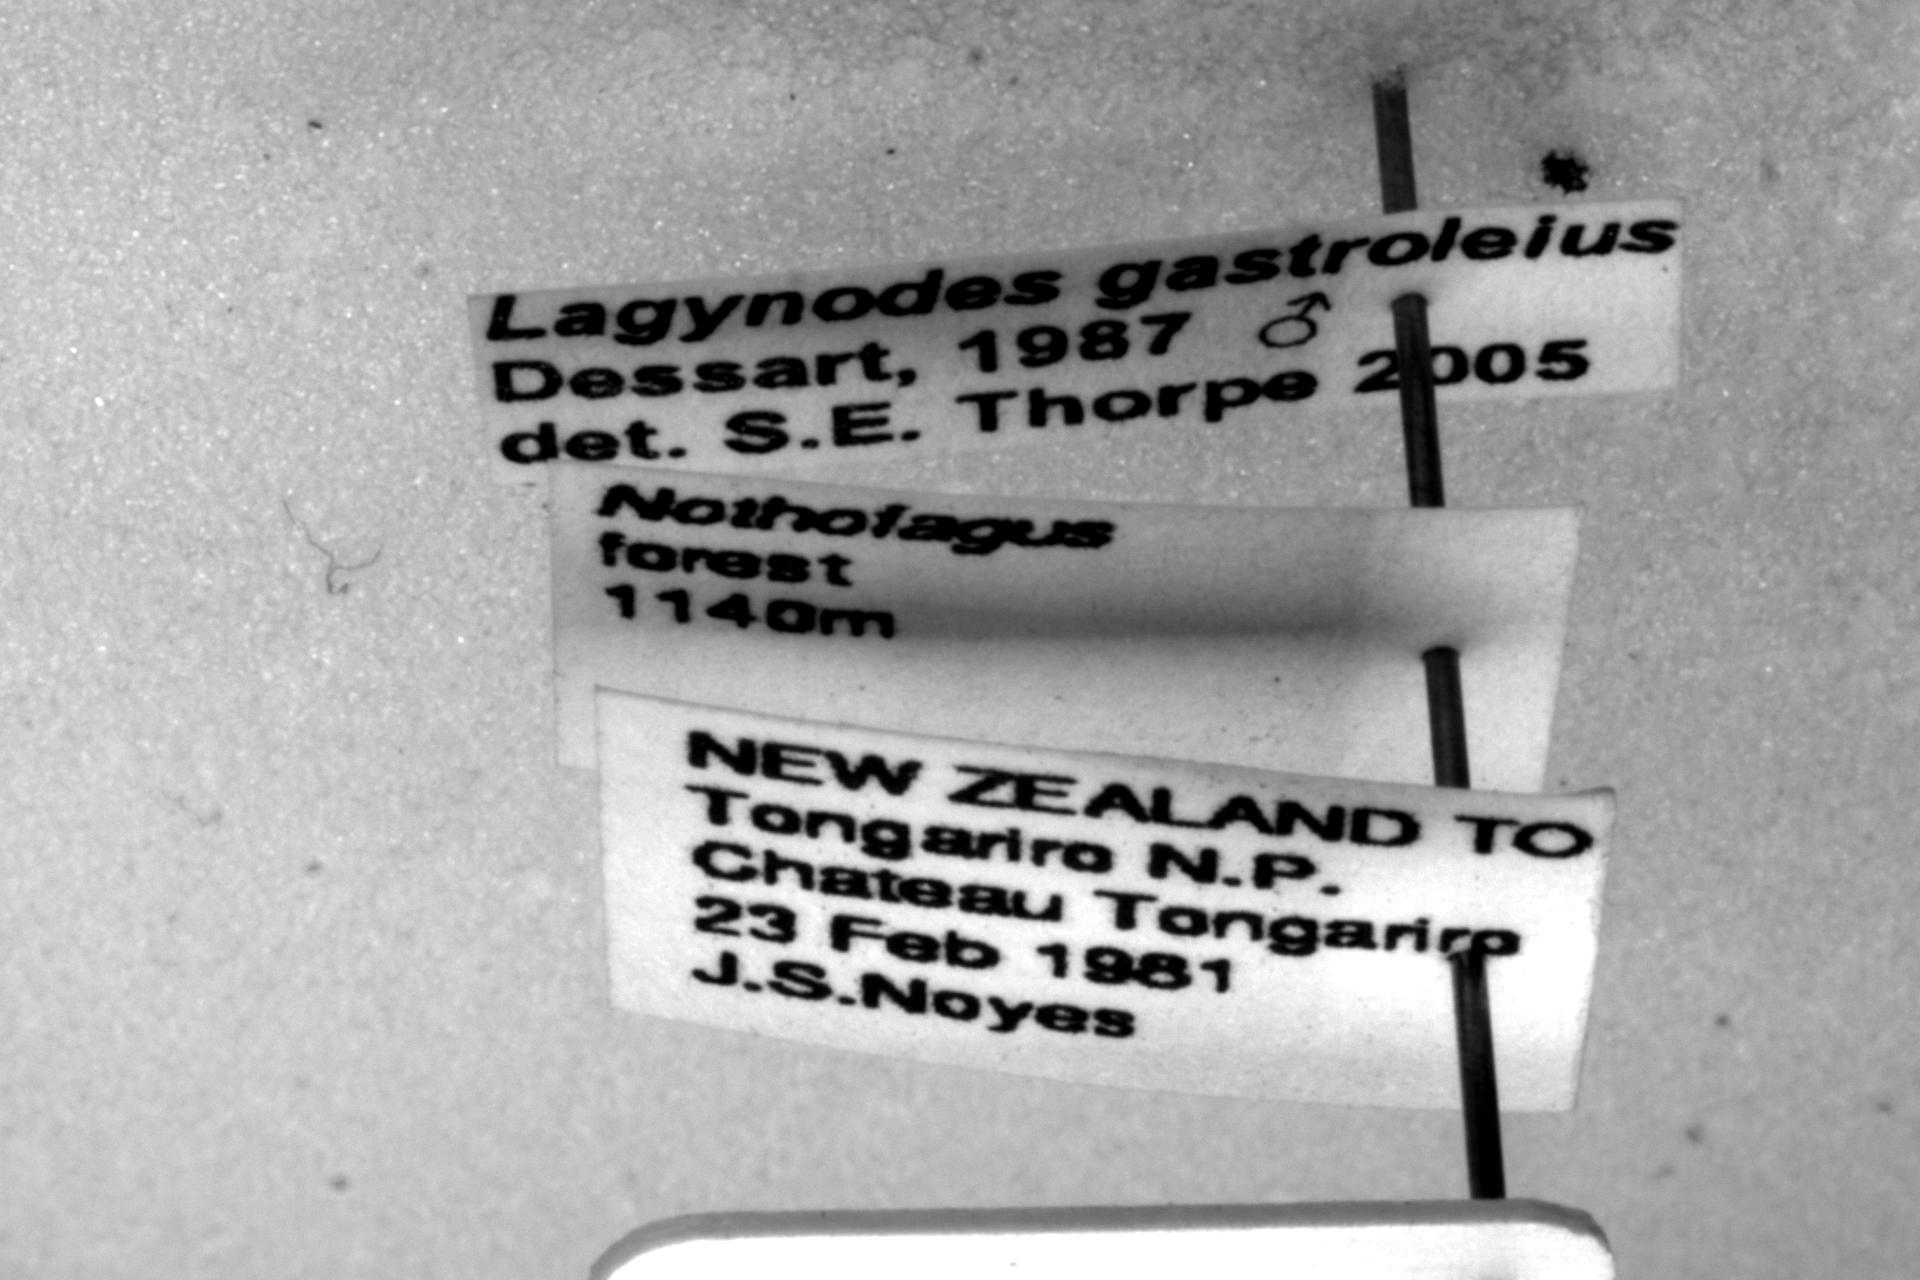typed_label: (596, 690, 1616, 1110), (469, 199, 1684, 484), (551, 469, 1583, 791)
